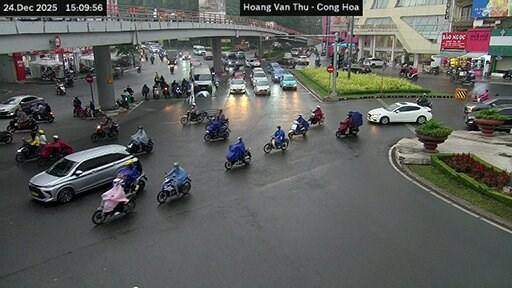motorbike: (92, 193, 134, 223), (156, 175, 191, 202), (112, 171, 146, 196), (125, 129, 152, 152), (336, 112, 361, 136), (89, 121, 118, 140), (16, 139, 38, 162), (226, 147, 249, 169), (262, 135, 288, 153), (37, 151, 67, 166), (6, 117, 38, 130), (204, 125, 230, 140), (127, 139, 153, 153), (288, 120, 307, 138), (201, 111, 216, 129), (179, 112, 201, 124), (76, 107, 101, 117), (336, 125, 358, 136), (307, 112, 323, 125), (32, 112, 54, 121), (451, 70, 467, 81), (41, 67, 54, 80), (460, 72, 473, 85), (0, 130, 12, 142), (115, 97, 128, 108), (416, 98, 431, 107), (172, 85, 182, 97), (406, 72, 418, 81), (423, 66, 438, 73), (56, 82, 64, 94), (220, 117, 229, 127), (503, 68, 511, 79), (79, 66, 93, 72), (64, 76, 73, 85), (163, 85, 169, 97), (153, 86, 159, 98), (169, 63, 173, 73), (214, 76, 218, 86), (316, 58, 320, 67), (150, 55, 153, 63), (137, 66, 140, 72), (112, 187, 118, 188)
